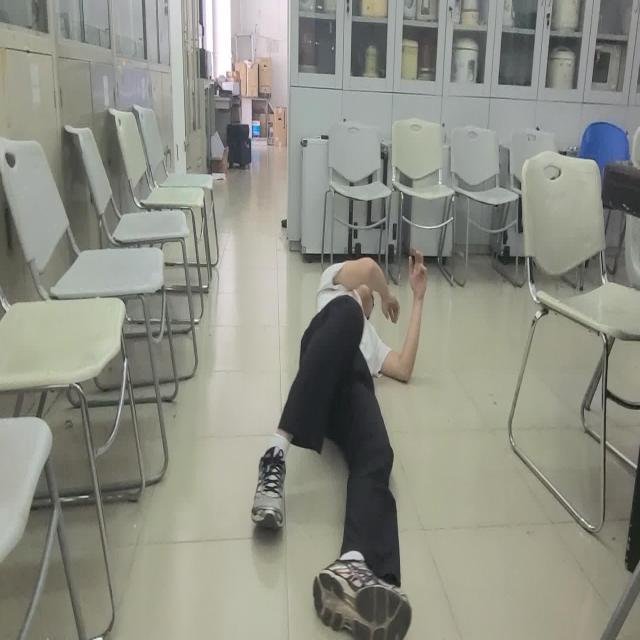fall: (254, 249, 434, 640)
